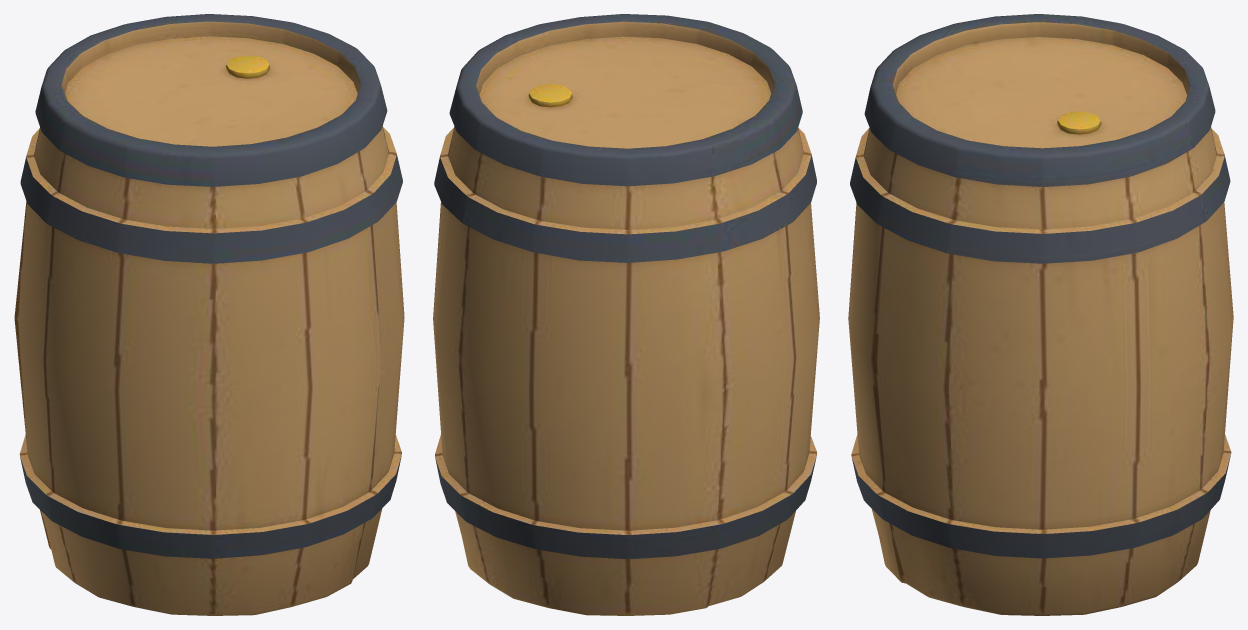
Rendered from barrel.glb.
3 views of the same model, side by side, from view 1: azimuth 30°, elevation 25°; view 2: azimuth 150°, elevation 25°; view 3: azimuth 270°, elevation 25° (orthographic).
Visible parts, largest first — view 1: barrel; view 2: barrel; view 3: barrel.
Boxes of the visible parts, x1,y1,x2,y2 form: barrel: (14,14,404,615); barrel: (433,14,819,615); barrel: (848,14,1233,615).
Bounding box in the file's own units: 0.599 × 0.7987 × 0.5984.
4 materials, 4 textured.
